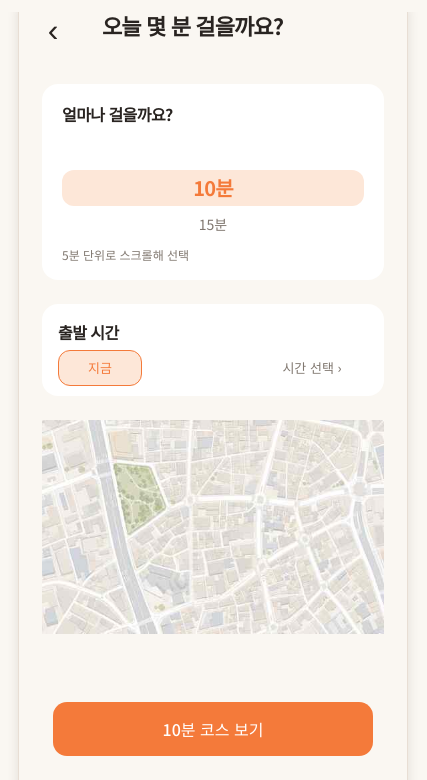
Test: WalkDurationPage › selects a visible duration when it is clicked
Click the text "15분" at (213, 224), box [199,214,227,234]
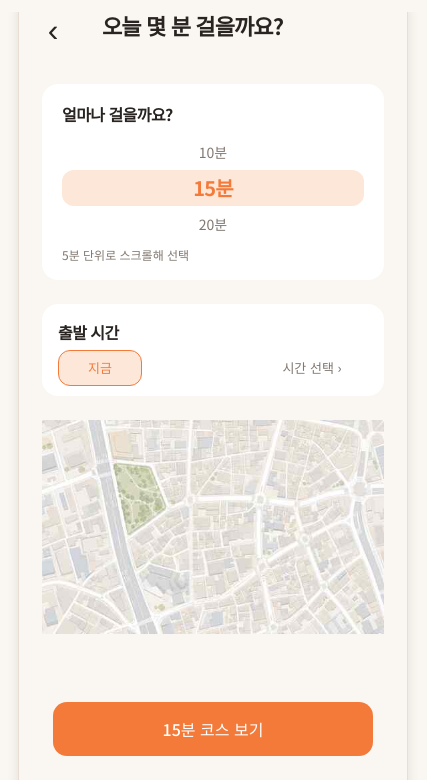
Expected: the button "15분 코스 보기" is shown, [53,702,373,756]
